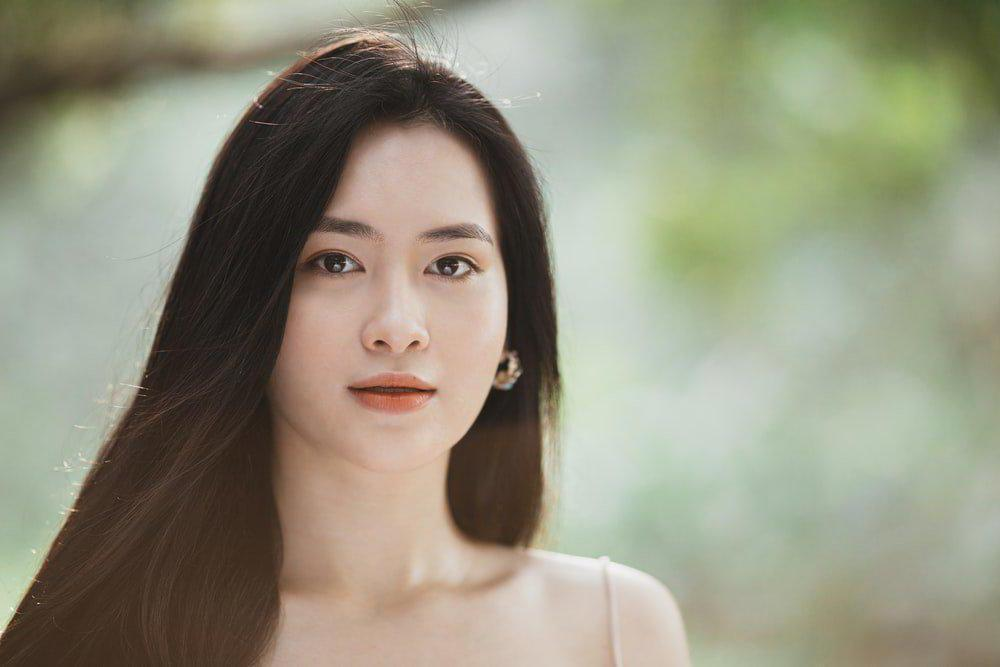Sober: (276, 132, 492, 421)
